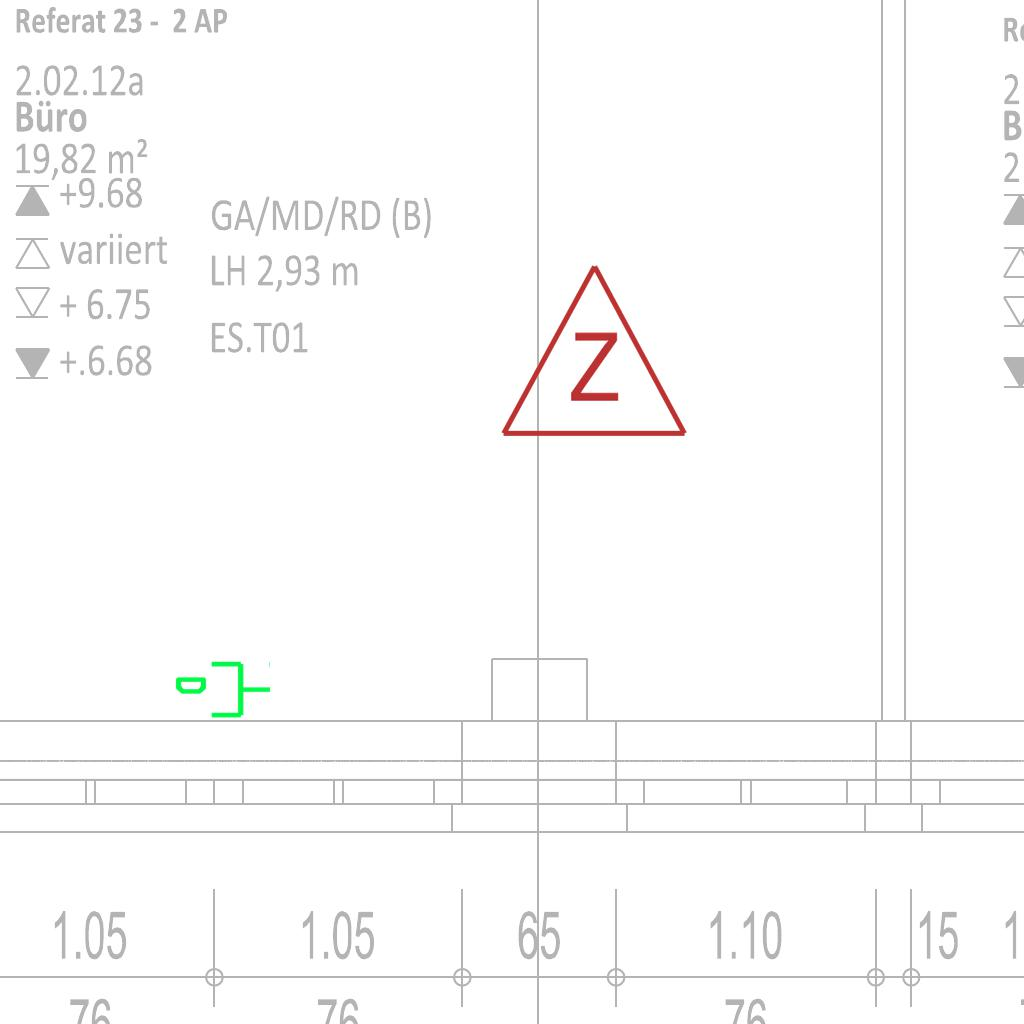Datenanschluss_einfach: (173, 657, 273, 726)
Zimmersignalleuchte: (494, 251, 690, 451)
